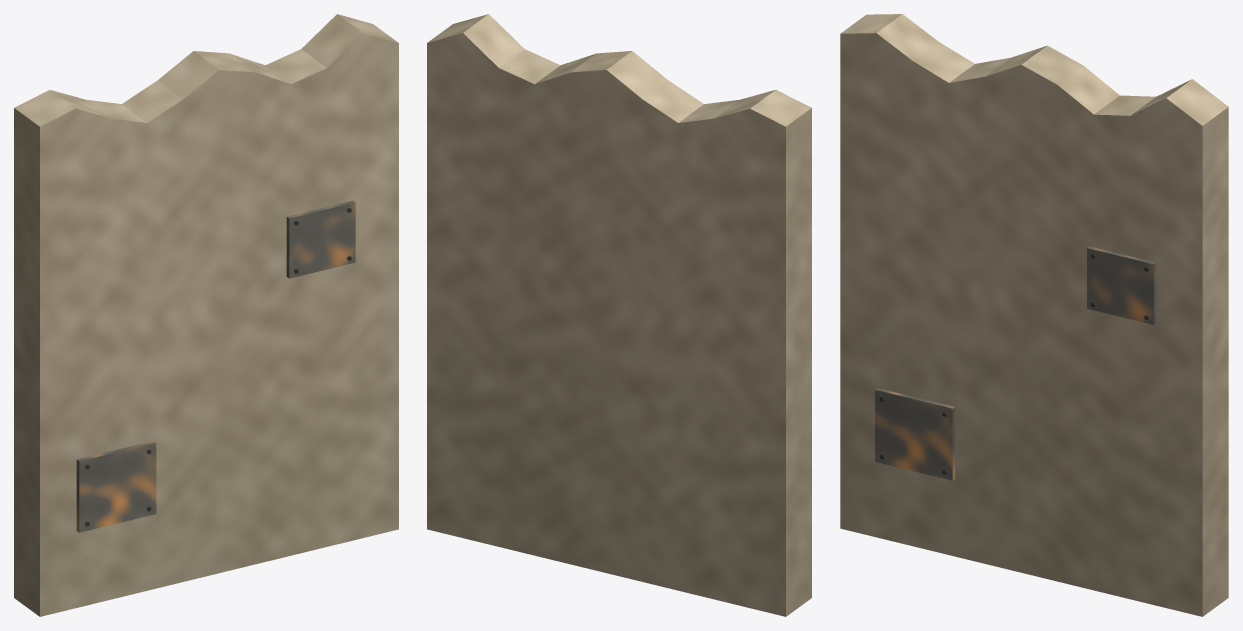
Rendered from wall_adobe_sand.glb.
The picture shows the model from 3 angles, left to right: view 1: azimuth 30°, elevation 25°; view 2: azimuth 150°, elevation 25°; view 3: azimuth 330°, elevation 25°; orthographic projection.
Size of the model in its own units: 2 by 2.69 by 0.283.
3 materials, 3 textured.
